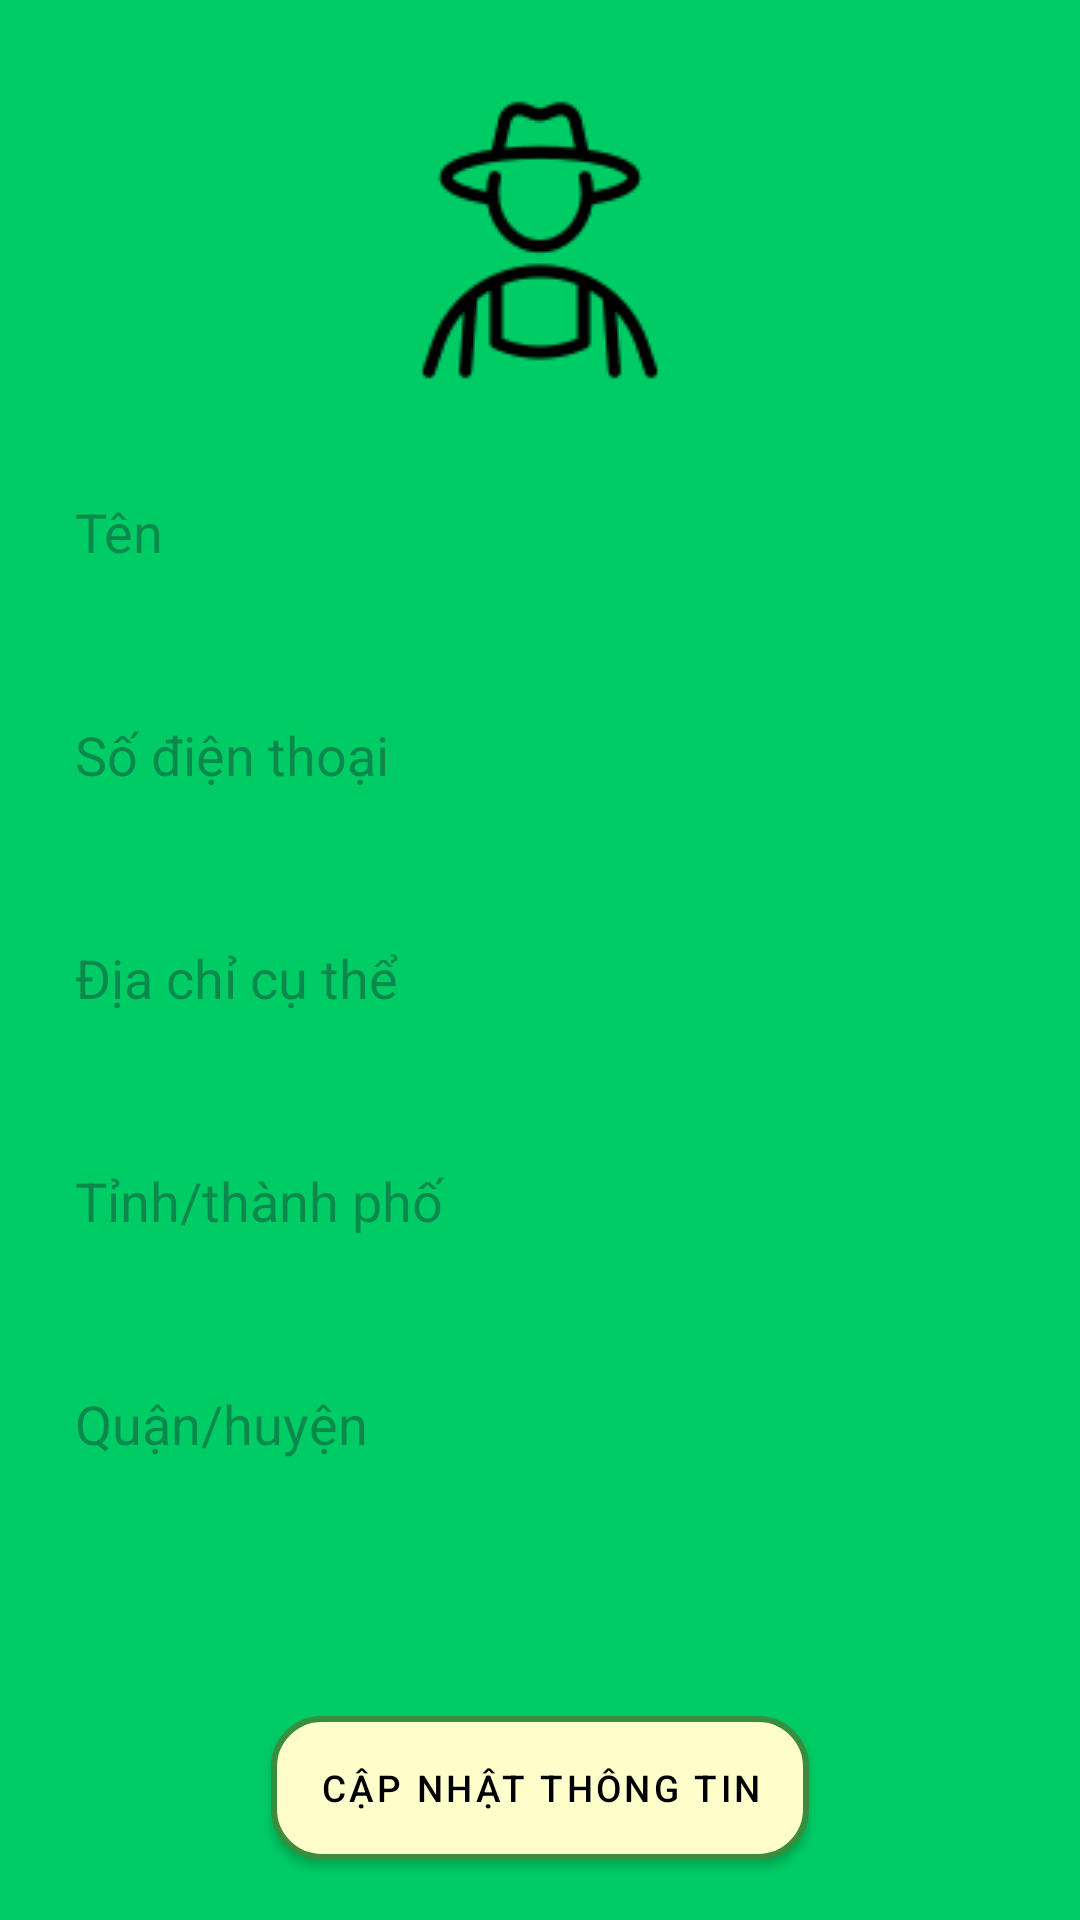

Icon click points for this 1080px x 1920px phone screenshot, format (x,y):
farmer: (540,240)
